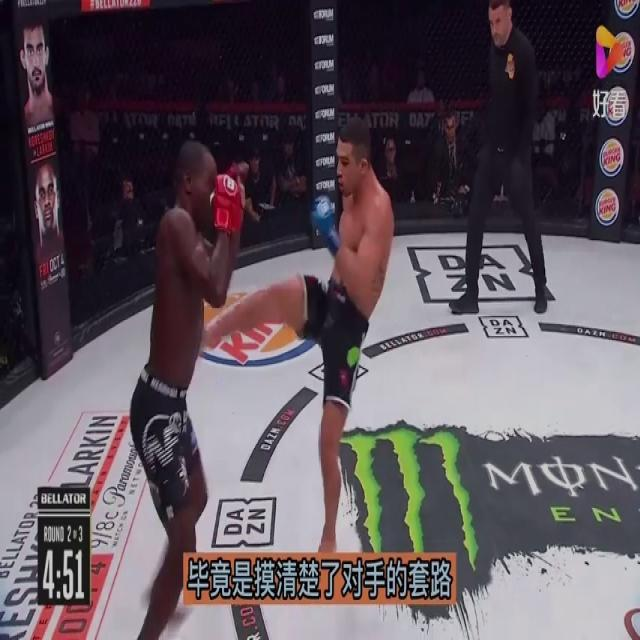fight: (116, 122, 438, 638)
non-fight: (431, 0, 557, 320)
